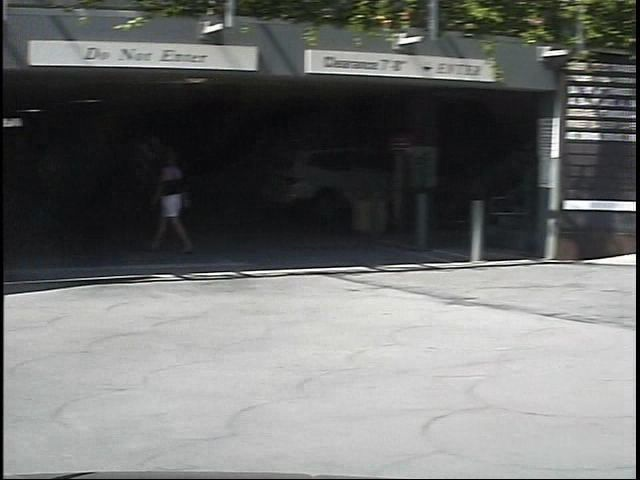person: (134, 146, 185, 265)
